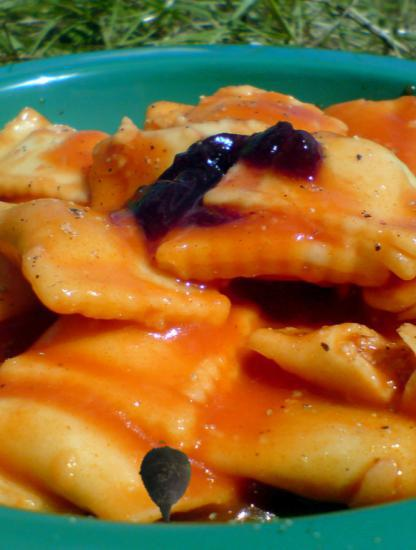Beetroot: (124, 438, 210, 524)
